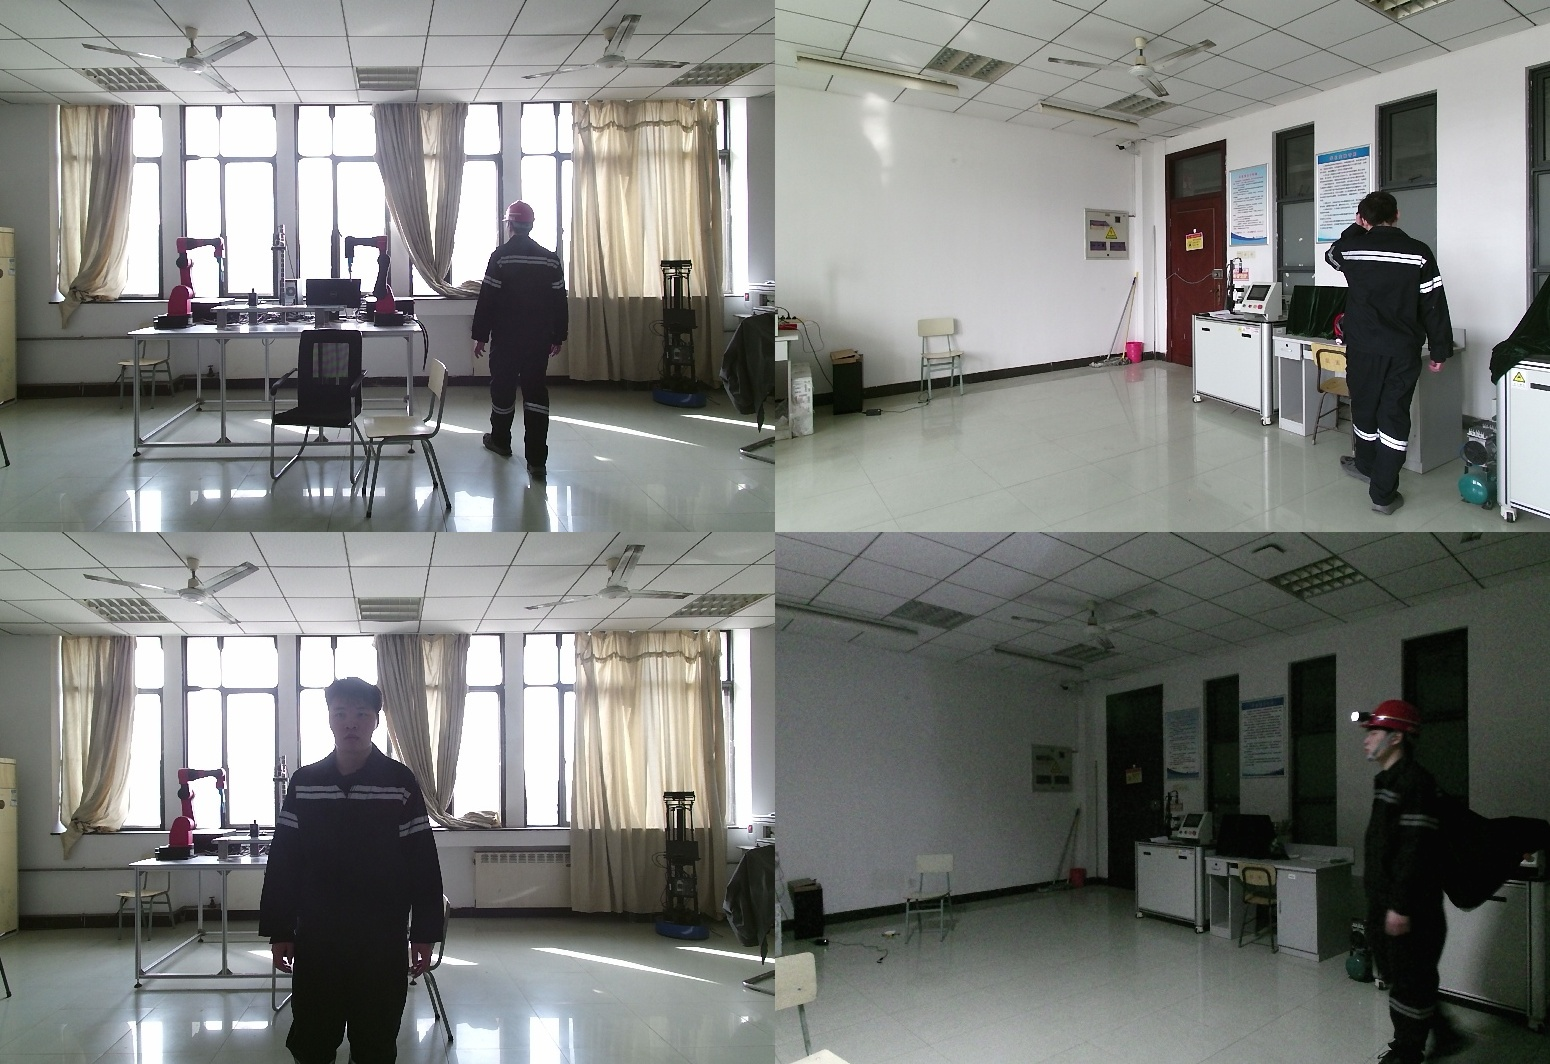person: (268, 678, 458, 1064), (1334, 191, 1469, 511), (1359, 697, 1470, 1061), (477, 201, 579, 488)
